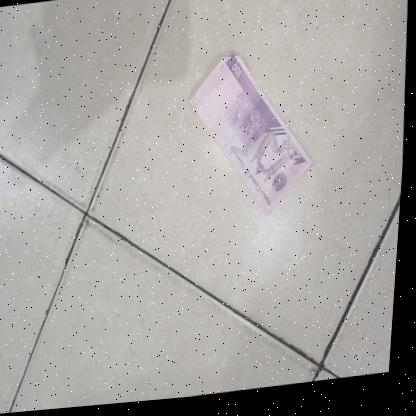one_hundred-back-vef: (181, 43, 325, 232)
